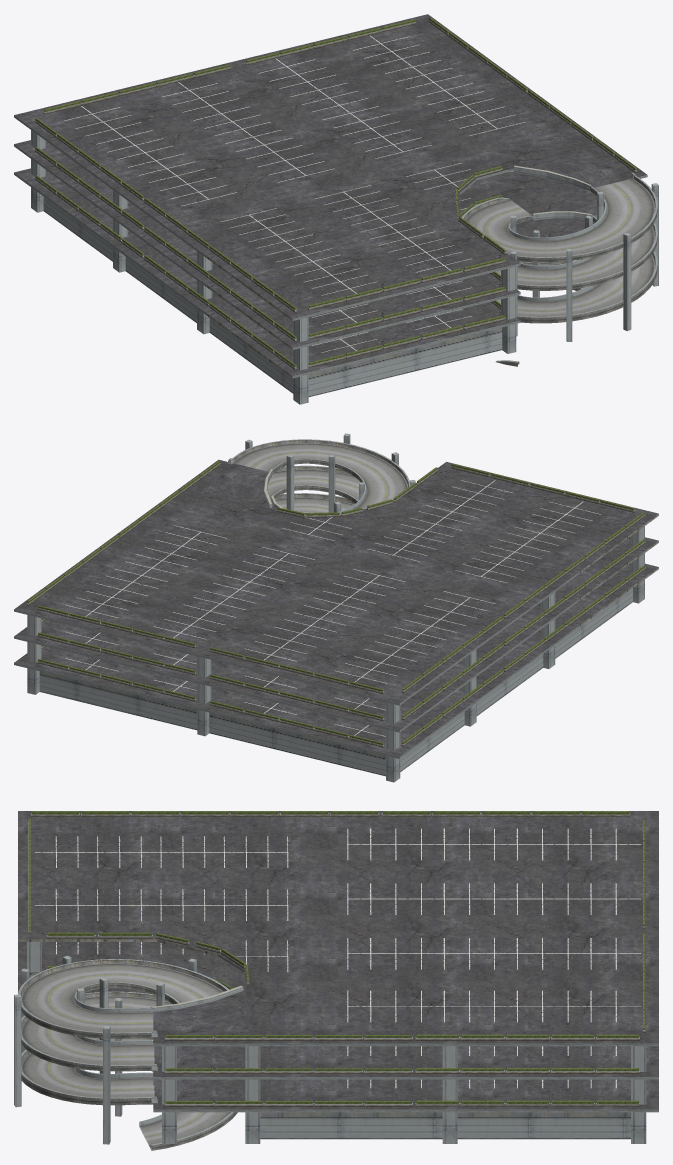
The model's file is Autopark.fbx.
3 renders of one model, top to bottom at view 1: azimuth 30°, elevation 25°; view 2: azimuth 150°, elevation 25°; view 3: azimuth 270°, elevation 25°, orthographic. The views are drawn at different scales.
Parts seen in each view (by area): view 1: Cube__2__2, Cube__2__1, Cube__2_, Cube__48_, ParkingRoad__2_, ParkingStripes_1__2_, ParkingRoad, ParkingRoad__1_, Cube__29_, Cube__35_, Cube__4_, Cube (+3 smaller); view 2: Cube__2__2, Cube__2__1, Cube__2_, Cube__48_, ParkingRoad__2_, ParkingStripes_1__2_, ParkingRoad__1_, ParkingRoad, Cube__17_, Cube__24_, Cube__13_, Cube__23_ (+2 smaller); view 3: Cube__2__2, Cube__2__1, Cube__2_, Cube__48_, ParkingRoad__2_, ParkingStripes_1__2_, ParkingRoad__1_, ParkingRoad, ParkingRoad__3_, Cube__13_, Cube__46_, Cube__11_ (+3 smaller).
Part boxes in pixels (box(x1,y1,x2,y2)): Cube__2__2: box(14, 14, 647, 320); Cube__2__1: box(14, 140, 604, 349); Cube__2_: box(14, 168, 594, 378); Cube__48_: box(43, 197, 502, 397); ParkingRoad__2_: box(462, 175, 657, 262); ParkingStripes_1__2_: box(64, 35, 525, 295); ParkingRoad: box(497, 251, 657, 323); ParkingRoad__1_: box(496, 214, 657, 290); Cube__29_: box(293, 317, 308, 404); Cube__35_: box(501, 266, 516, 353); Cube__4_: box(623, 232, 631, 331); Cube: box(566, 249, 572, 341); Cube__2__2: box(14, 459, 658, 705); Cube__2__1: box(14, 495, 658, 732); Cube__2_: box(14, 563, 658, 758); Cube__48_: box(39, 588, 632, 776); ParkingRoad__2_: box(232, 439, 410, 514); ParkingStripes_1__2_: box(66, 480, 600, 683); ParkingRoad__1_: box(267, 465, 359, 503); ParkingRoad: box(275, 493, 354, 515); Cube__17_: box(386, 702, 400, 782); Cube__24_: box(197, 656, 211, 736); Cube__13_: box(27, 615, 41, 694); Cube__23_: box(541, 592, 555, 668); Cube__2__2: box(18, 811, 658, 1046); Cube__2__1: box(18, 942, 658, 1079); Cube__2_: box(18, 975, 658, 1112); Cube__48_: box(260, 1112, 630, 1139); ParkingRoad__2_: box(18, 959, 229, 1038); ParkingStripes_1__2_: box(35, 828, 641, 1022); ParkingRoad__1_: box(21, 991, 172, 1071); ParkingRoad: box(21, 1037, 154, 1105); ParkingRoad__3_: box(139, 1112, 237, 1150); Cube__13_: box(631, 1046, 646, 1143); Cube__46_: box(245, 1046, 260, 1143); Cube__11_: box(442, 1046, 457, 1143).
Bounding box in the file's own units: 17031 × 5017 × 19961.
